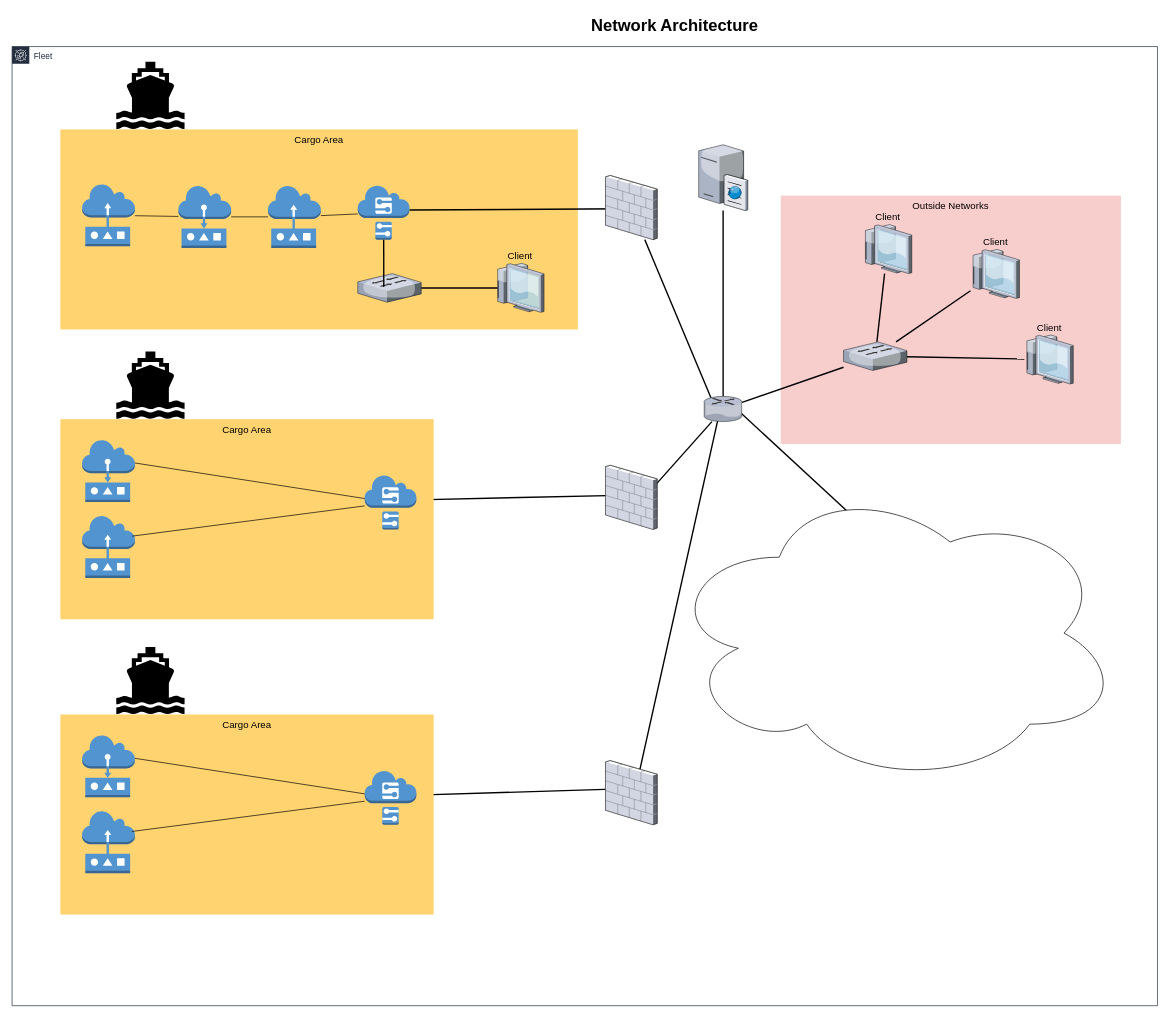
Image size: 1170x1018. Some labels were removed from this diagram. Here are the shapes that lost their labels. From the top down, the centre of each, then its label:
At pixel 722 176: "Web Server".
At pixel 893 633: "Cloud".
